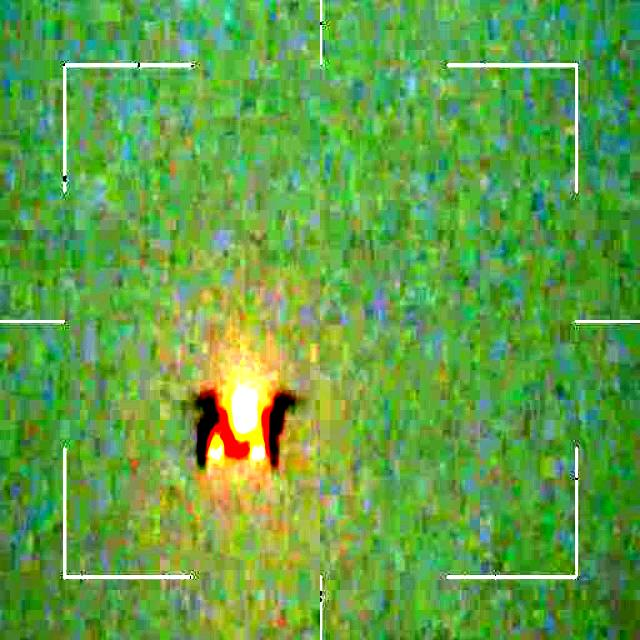bird: (194, 378, 296, 475)
